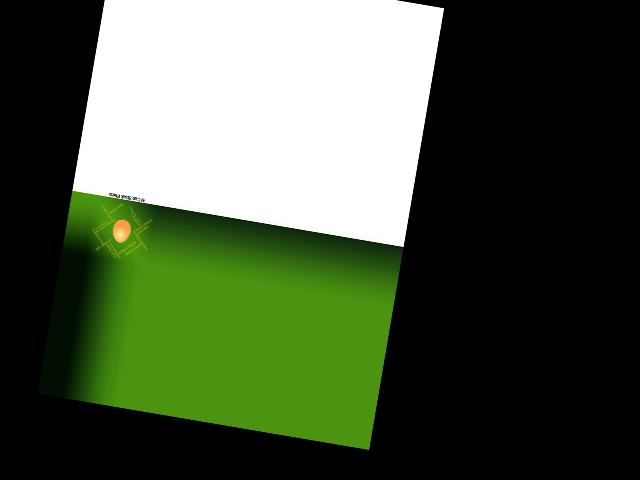egg: (110, 218, 132, 244)
